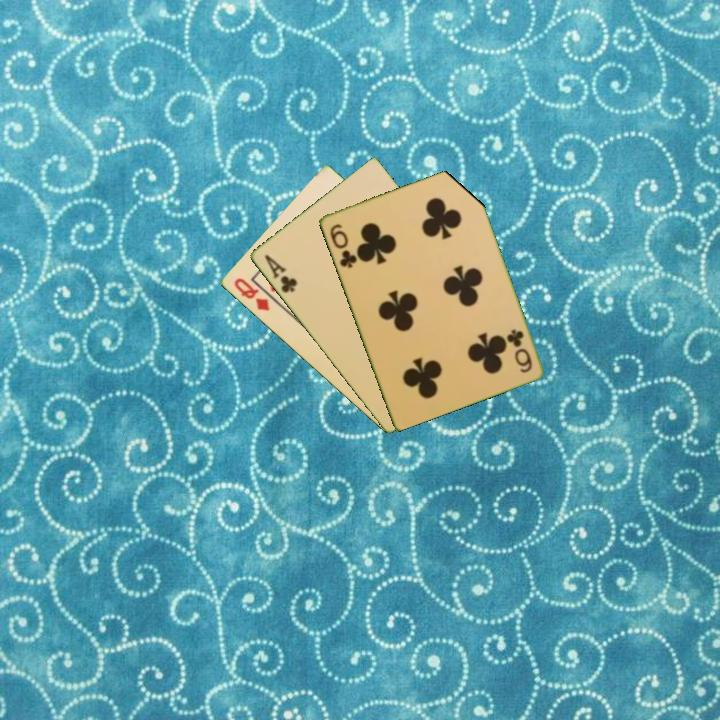6c: (326, 220, 360, 271), (503, 325, 535, 376)
Ac: (260, 251, 300, 296)
Qd: (230, 274, 272, 314)
